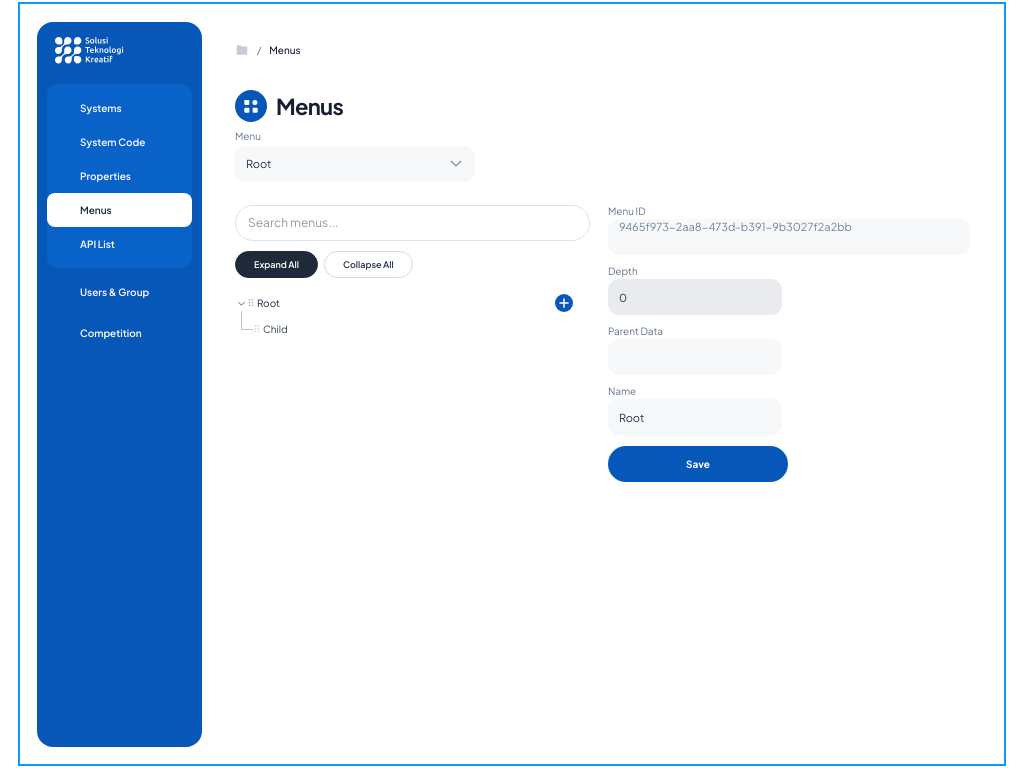
Test: menu manager › loads the hierarchy and expands or collapses its children
The image size is (1024, 768).
Expected: the button named "Ciutkan Root" is shown, [235,295,247,311]
Expected: the button "Child" is shown, [261,318,552,340]
Click the button "Collapse All": (368,264) [324,251,413,278]
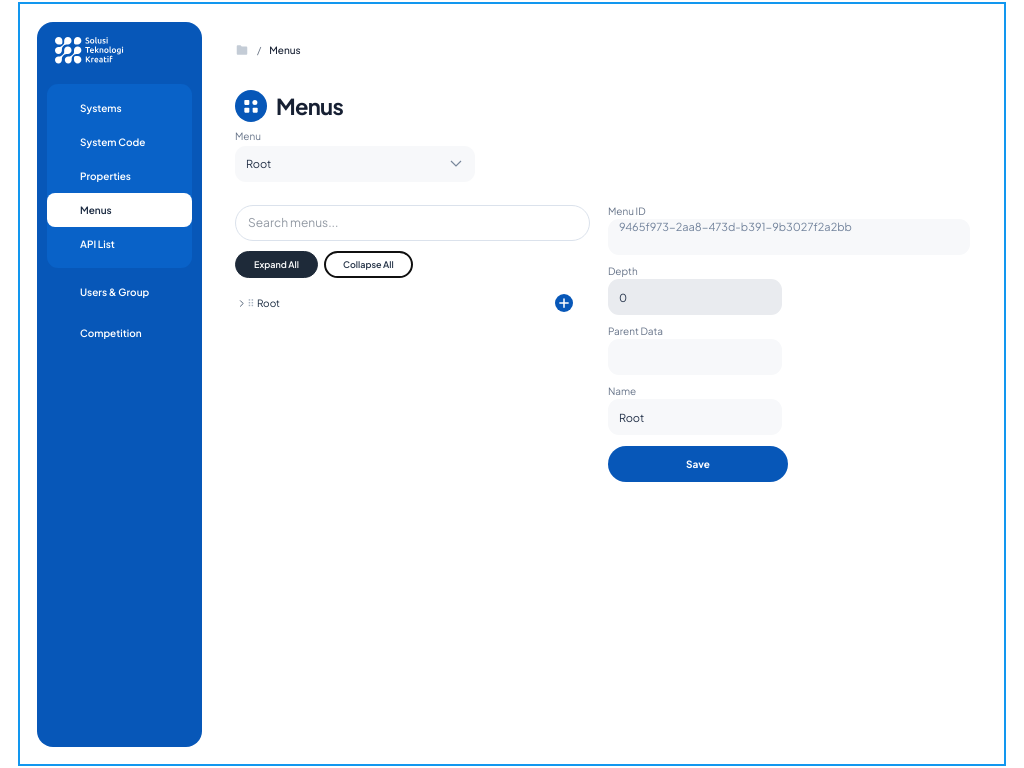
Expected: the button "Child" is gone
Click the button "Expand All": (276,264) [235,251,318,278]
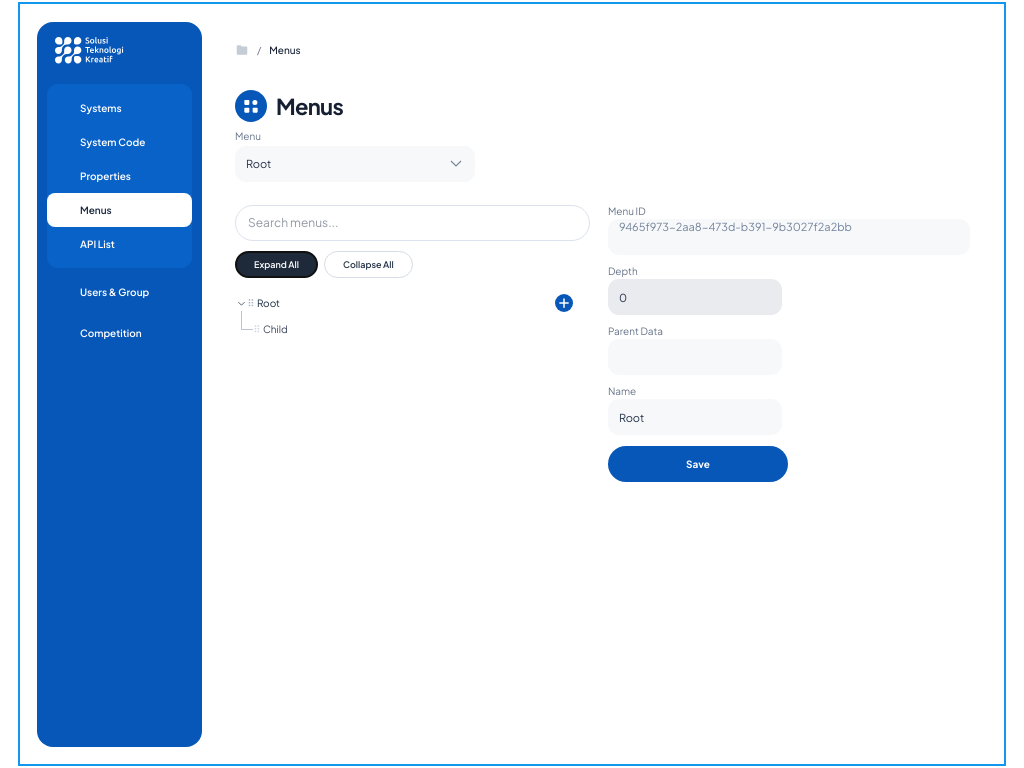
Expected: the button "Child" is shown, [261,318,552,340]
